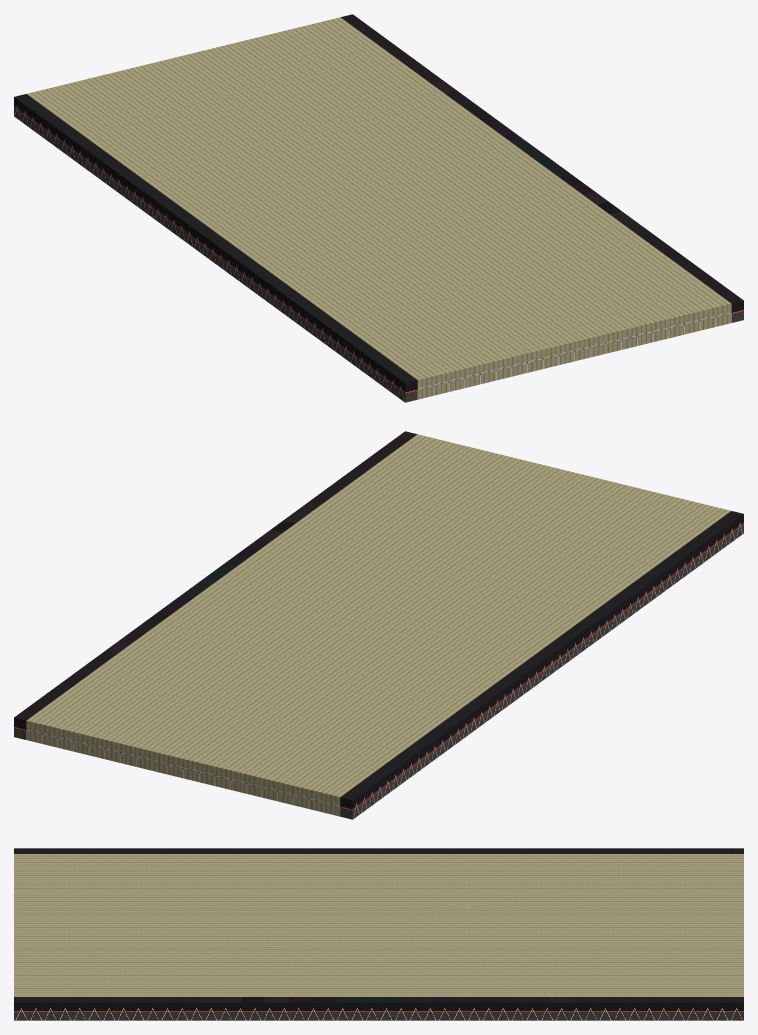
The model's file is sweethome3d-scopia-tatami-345.glb.
3 views of the same model, one above another, from view 1: azimuth 30°, elevation 25°; view 2: azimuth 150°, elevation 25°; view 3: azimuth 270°, elevation 25° (orthographic). The views are drawn at different scales.
Visible parts, largest first — view 1: tatami_Cube.001, sides_Cube, transparent_Cube.002; view 2: tatami_Cube.001, sides_Cube, transparent_Cube.002; view 3: tatami_Cube.001, sides_Cube.
Part boxes in pixels (x1=…): tatami_Cube.001: x1=27, y1=17, x2=731, y2=399; sides_Cube: x1=14, y1=14, x2=743, y2=402; transparent_Cube.002: x1=417, y1=312, x2=731, y2=399; tatami_Cube.001: x1=26, y1=434, x2=730, y2=816; sides_Cube: x1=14, y1=431, x2=743, y2=819; transparent_Cube.002: x1=26, y1=729, x2=340, y2=816; tatami_Cube.001: x1=14, y1=854, x2=743, y2=996; sides_Cube: x1=14, y1=848, x2=743, y2=1020.
Bounding box in the file's own units: 100 × 5.5 × 200.
3 materials, 3 textured.
